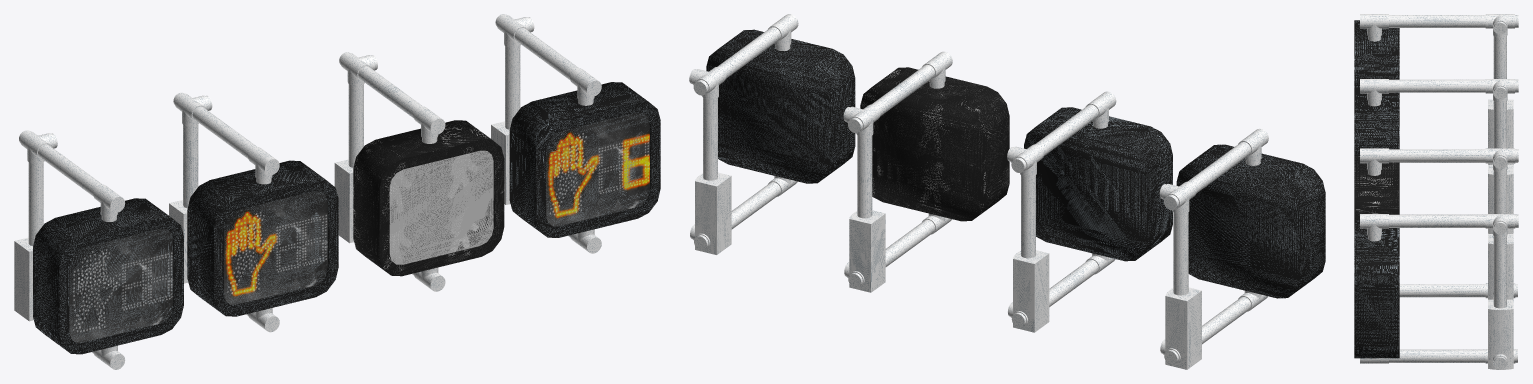
The picture shows the model from 3 angles, left to right: view 1: azimuth 30°, elevation 25°; view 2: azimuth 150°, elevation 25°; view 3: azimuth 270°, elevation 25°; orthographic projection. The views are drawn at different scales.
Visible parts, largest first — view 1: Component_2 (×2), Component_1 (×2), Component_3 (×2), Component_7 (×2), one-way_8__traffic_signal_slip_fitters (×20); view 2: one-way_8__traffic_signal_slip_fitters (×24), Component_7, Component_2, Component_3, Component_1; view 3: one-way_8__traffic_signal_slip_fitters (×28), Component_3, Component_1, Component_2, Component_7.
Boxes of the visible parts, x1=… form: Component_2 (×2): x1=353, y1=120, x2=504, y2=276; Component_1 (×2): x1=187, y1=160, x2=338, y2=316; Component_3 (×2): x1=509, y1=82, x2=660, y2=237; Component_7 (×2): x1=33, y1=198, x2=183, y2=354; one-way_8__traffic_signal_slip_fitters (×20): x1=14, y1=14, x2=601, y2=321; one-way_8__traffic_signal_slip_fitters (×24): x1=692, y1=14, x2=1268, y2=369; Component_7: x1=1176, y1=144, x2=1325, y2=298; Component_2: x1=860, y1=67, x2=1009, y2=221; Component_3: x1=706, y1=29, x2=855, y2=183; Component_1: x1=1024, y1=107, x2=1172, y2=261; one-way_8__traffic_signal_slip_fitters (×28): x1=1360, y1=14, x2=1515, y2=369; Component_3: x1=1354, y1=220, x2=1399, y2=358; Component_1: x1=1354, y1=85, x2=1399, y2=154; Component_2: x1=1354, y1=155, x2=1399, y2=220; Component_7: x1=1354, y1=20, x2=1399, y2=85.
Size of the model in its own units: 108 by 29.71 by 30.09.
